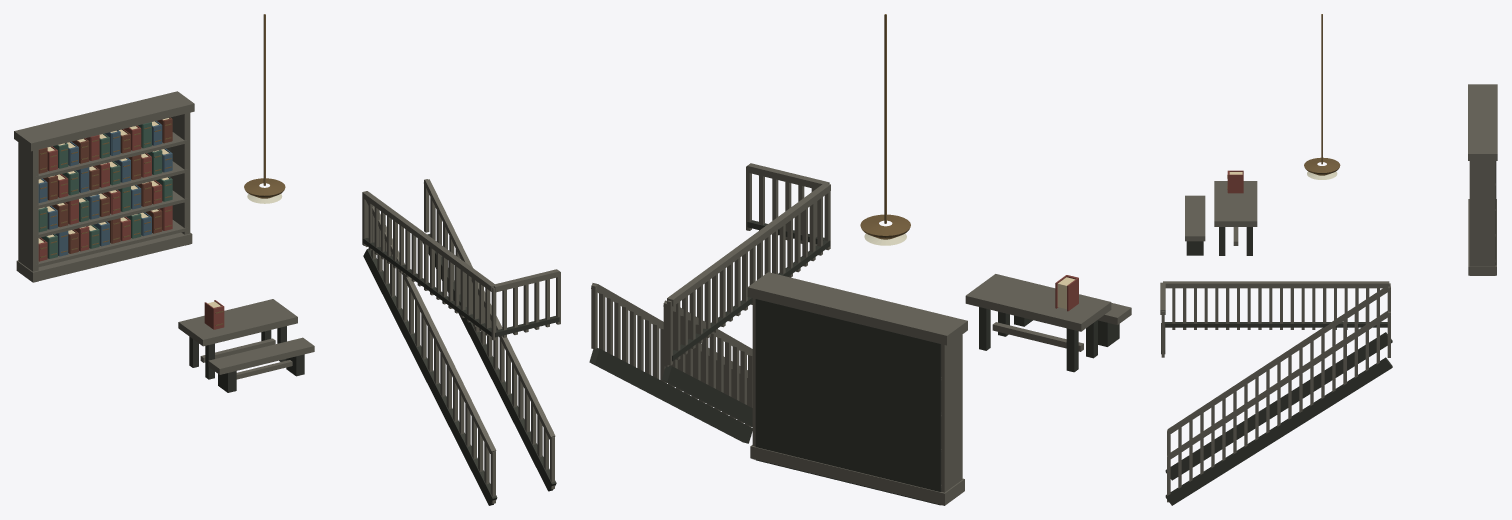
Rendered from upstairs_library.glb.
3 views of the same model, side by side, from view 1: azimuth 30°, elevation 25°; view 2: azimuth 150°, elevation 25°; view 3: azimuth 270°, elevation 25° (orthographic). The views are drawn at different scales.
Parts seen in each view (by area): view 1: upstairs_library; view 2: upstairs_library; view 3: upstairs_library.
Boxes of the visible parts, x1,y1,x2,y2 form: upstairs_library: (14,14,560,505); upstairs_library: (589,14,1131,505); upstairs_library: (1160,14,1497,505).
Bounding box in the file's own units: 7.49 × 9.33 × 7.04.
